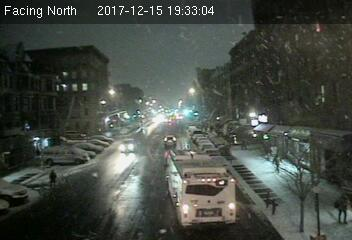bus: (166, 149, 238, 224)
car: (119, 137, 135, 152), (162, 135, 177, 145)
pedestrian: (332, 187, 352, 219)
